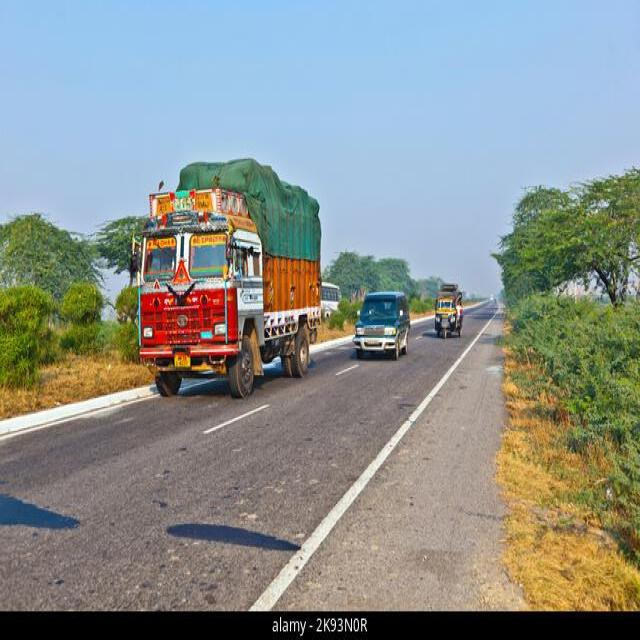normal_truck: (138, 188, 320, 399)
overloaded_truck: (177, 159, 318, 261)
